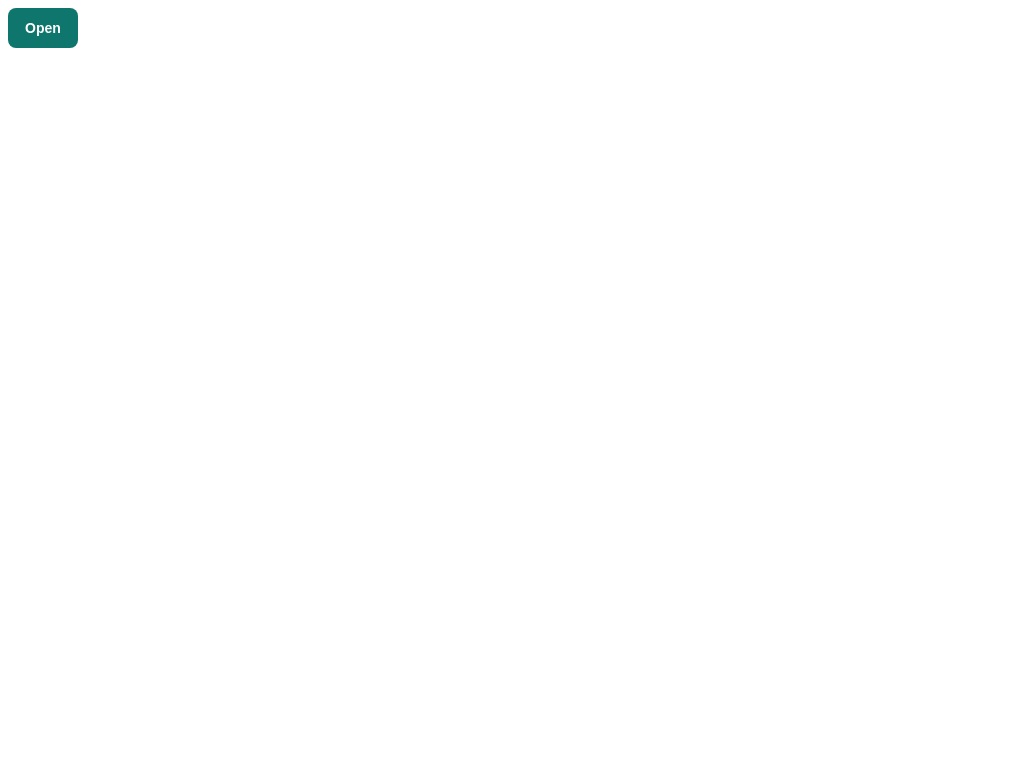
modal behavior › provides accessible content, traps focus, closes on Escape, and restores trigger focus
Click the button "Open" at [43, 28], box x1=8 y1=8 x2=78 y2=48
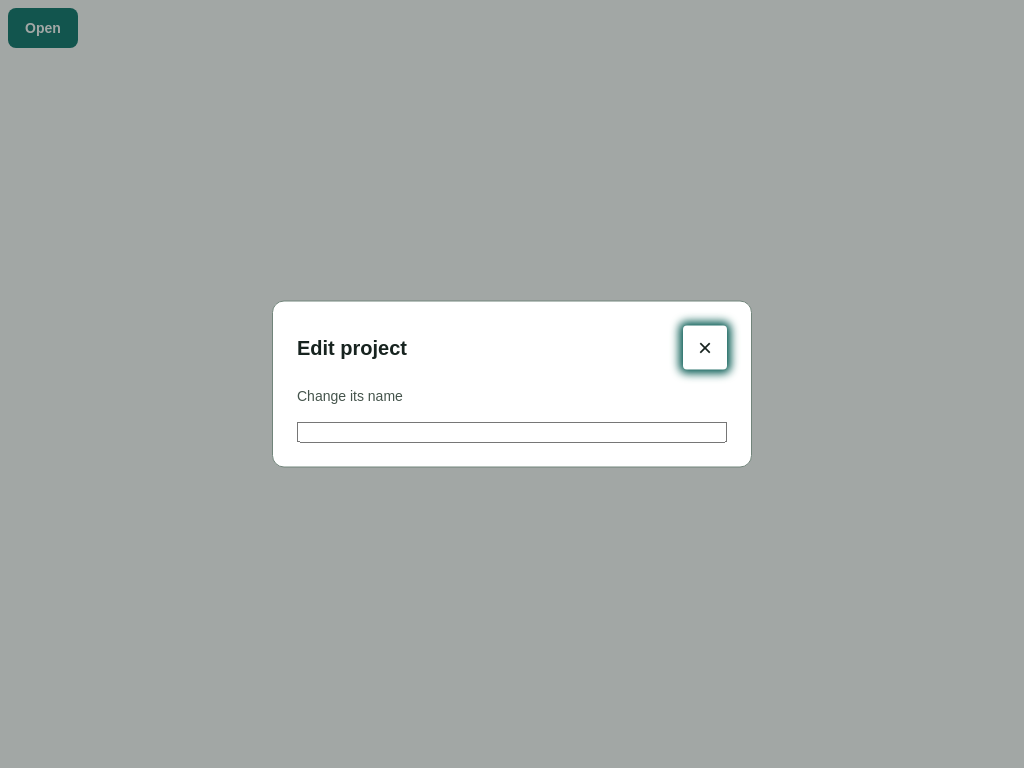
Press Tab
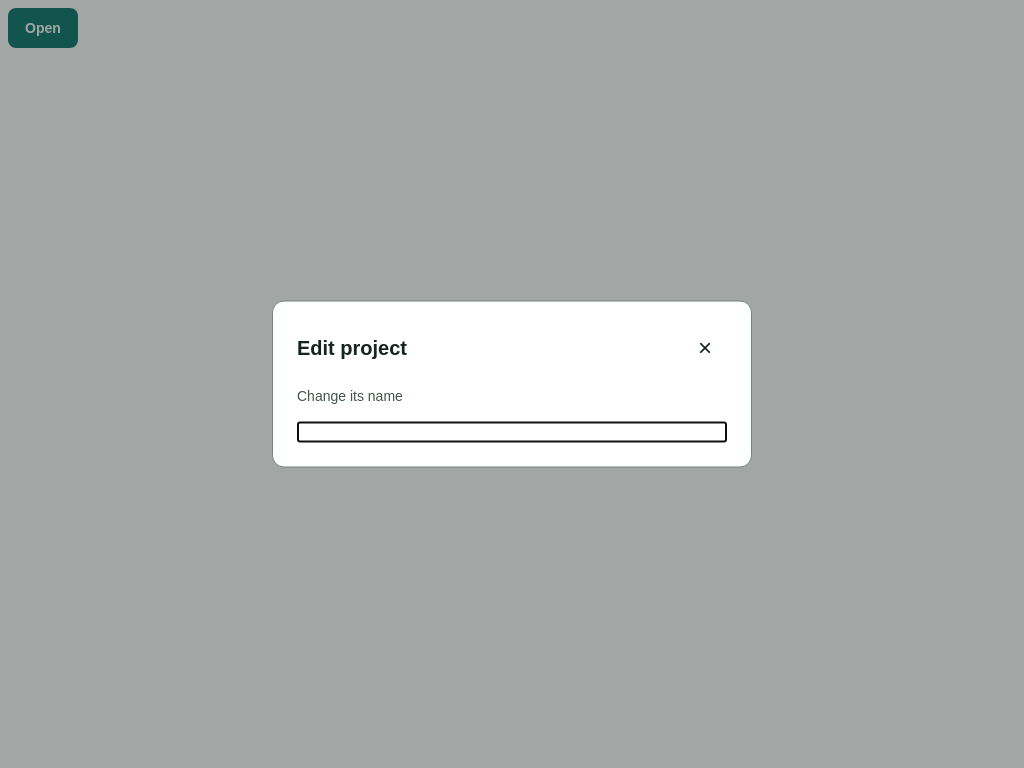
Press Tab
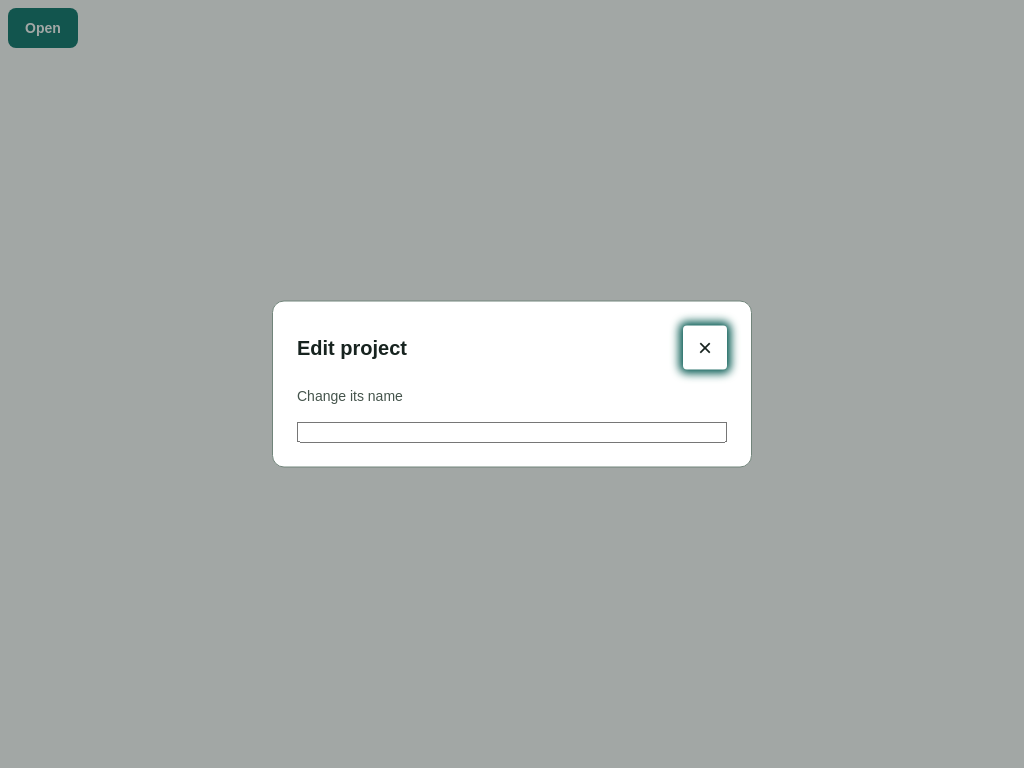
Press Escape
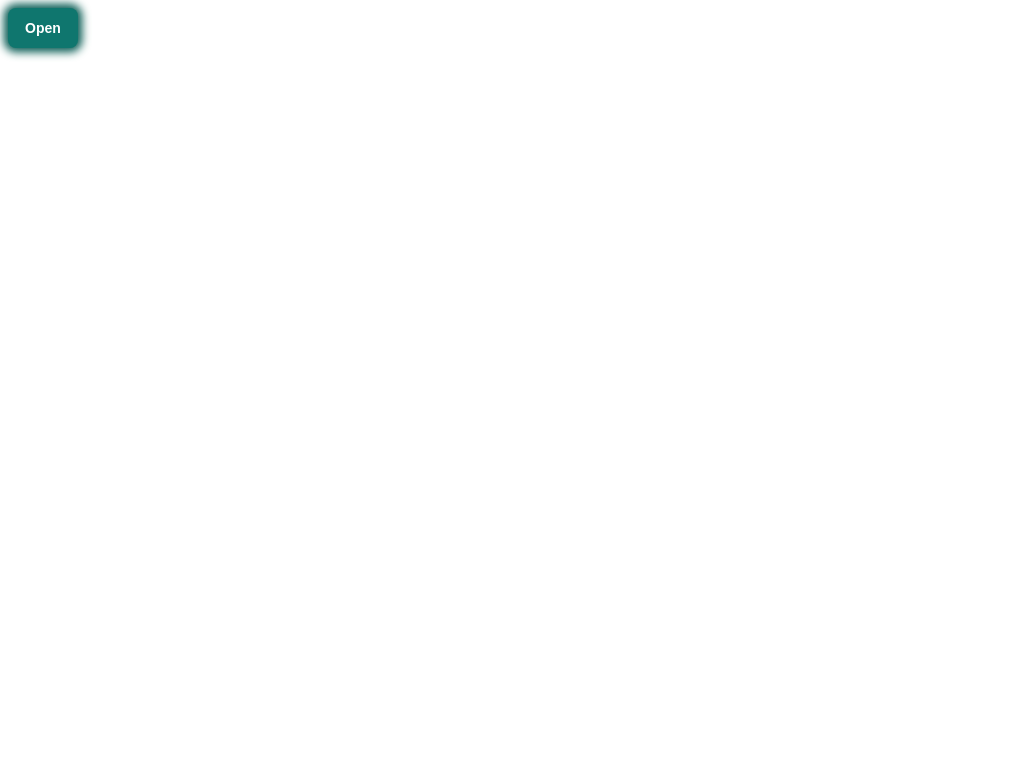
expect the dialog is gone: met
